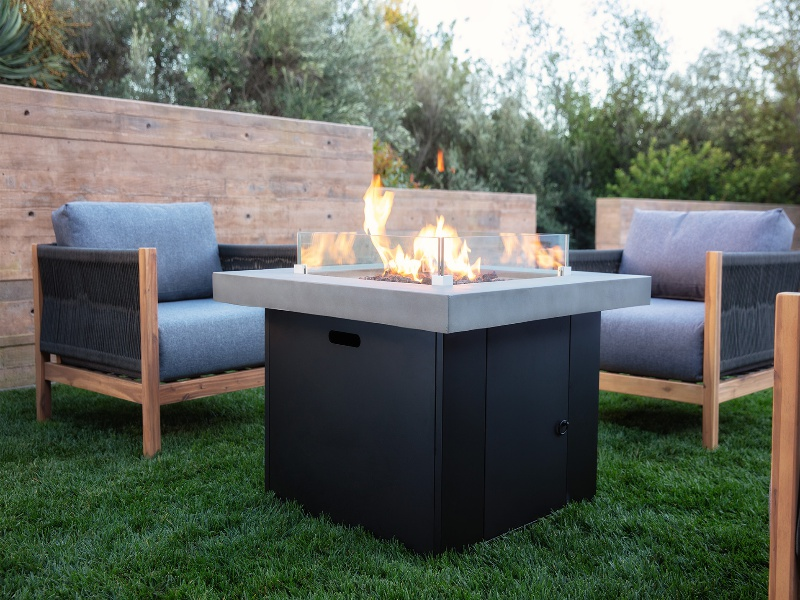fire: (365, 182, 402, 277), (414, 221, 469, 278), (500, 233, 566, 272), (301, 234, 359, 265), (470, 257, 484, 278)
